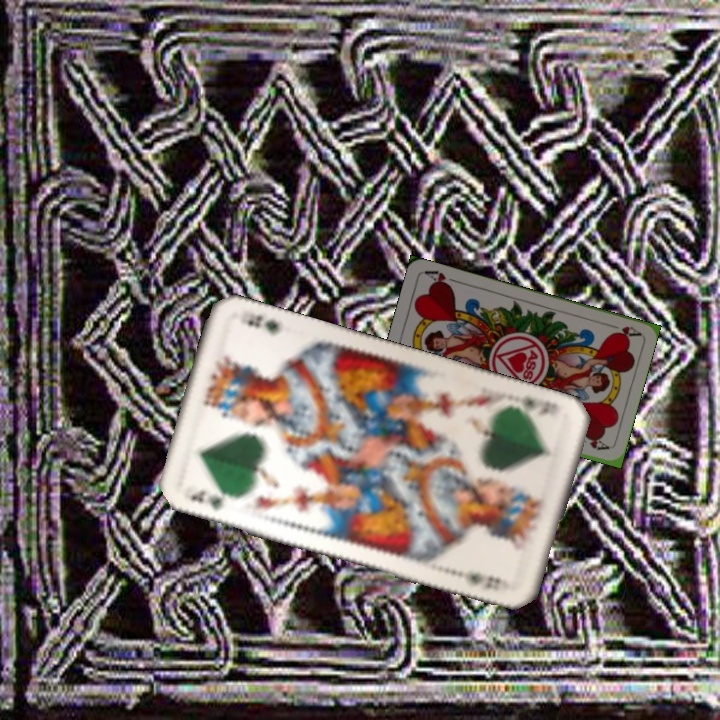GK: (186, 486, 224, 513), (524, 394, 558, 419)
HA: (602, 319, 642, 341)
